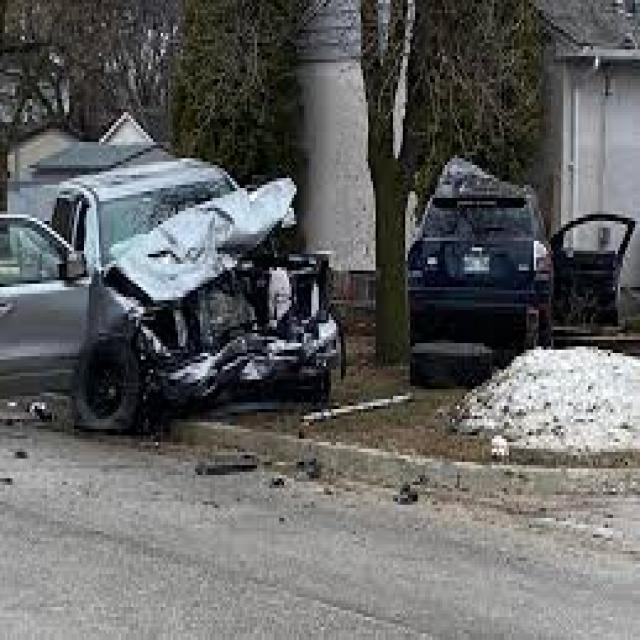accident: (25, 126, 358, 452)
